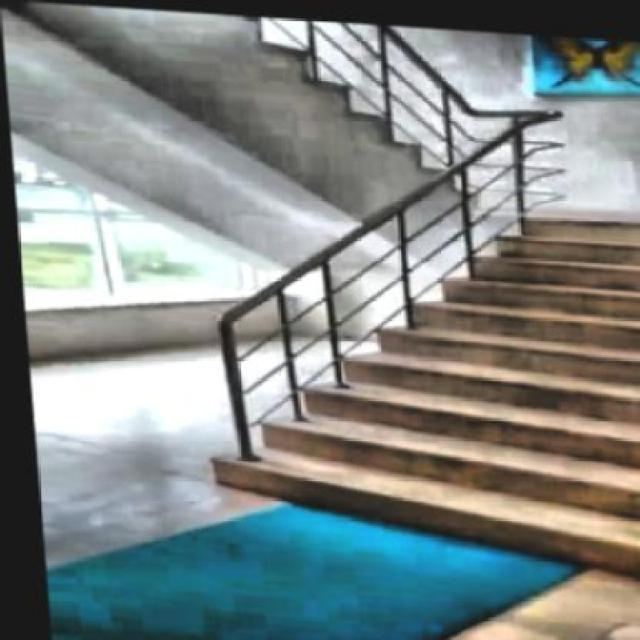stair: (138, 165, 638, 584)
